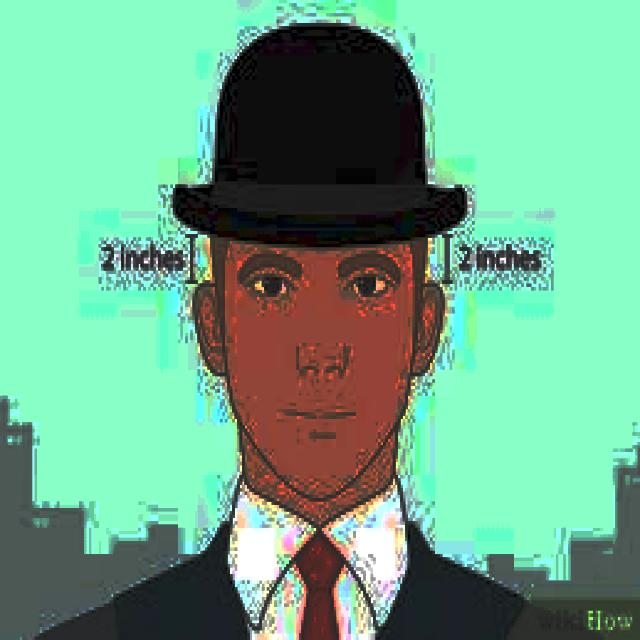TOPI: (166, 13, 474, 254)
